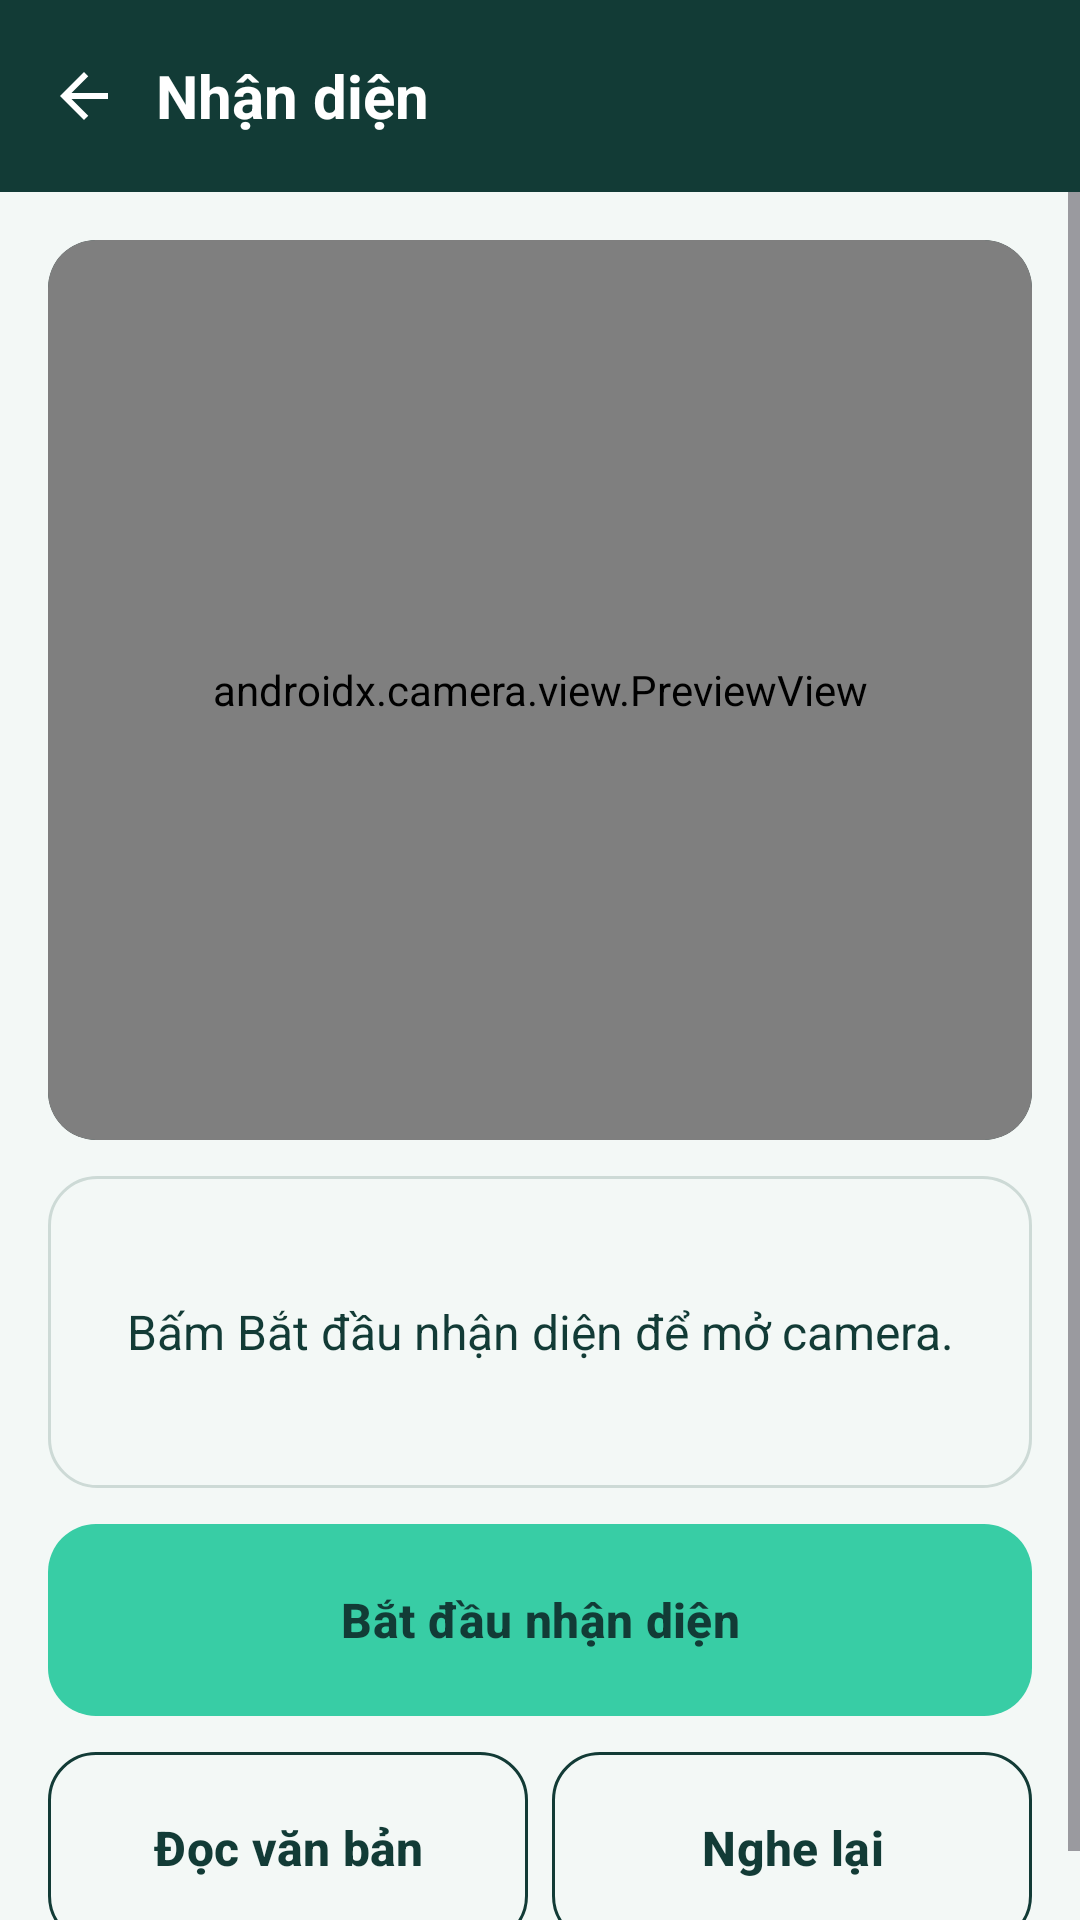

Screen size 1080×1920. Icon name, then its box in pixels as (x1, y1, x2, y2):
Quay lại màn hình chính: (60, 72, 108, 120)
